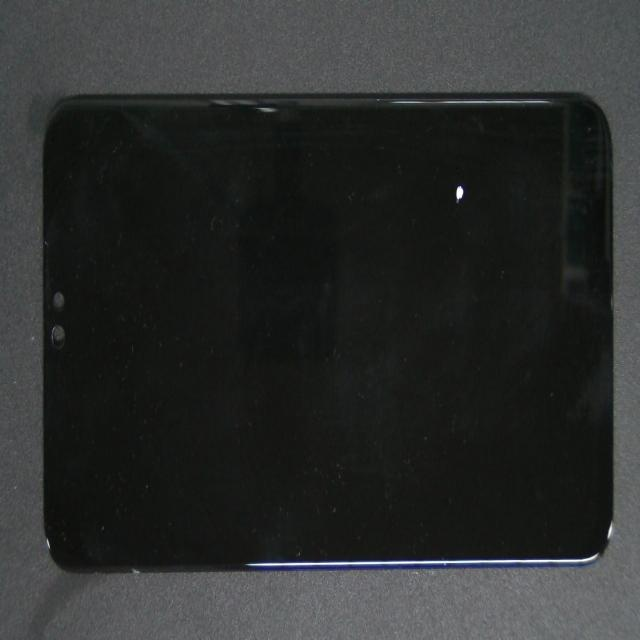stain: (217, 86, 640, 309)
